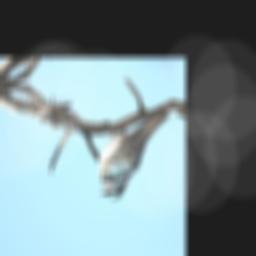Swallow: (93, 110, 178, 203)
